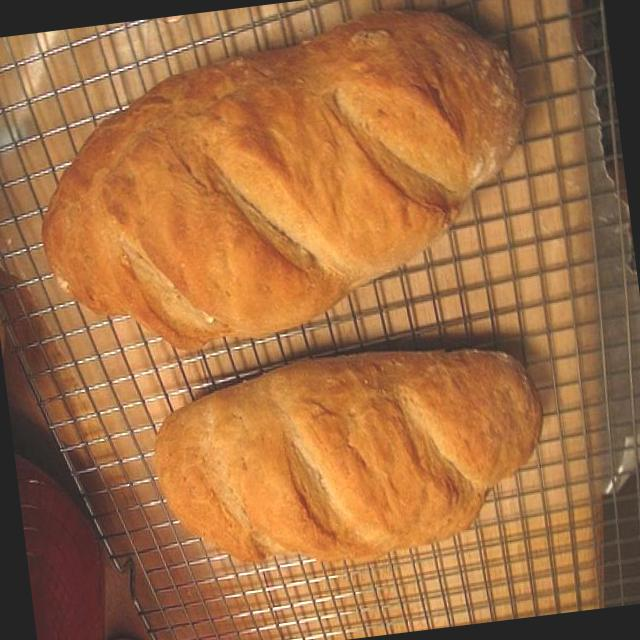Bread: (131, 314, 557, 602)
